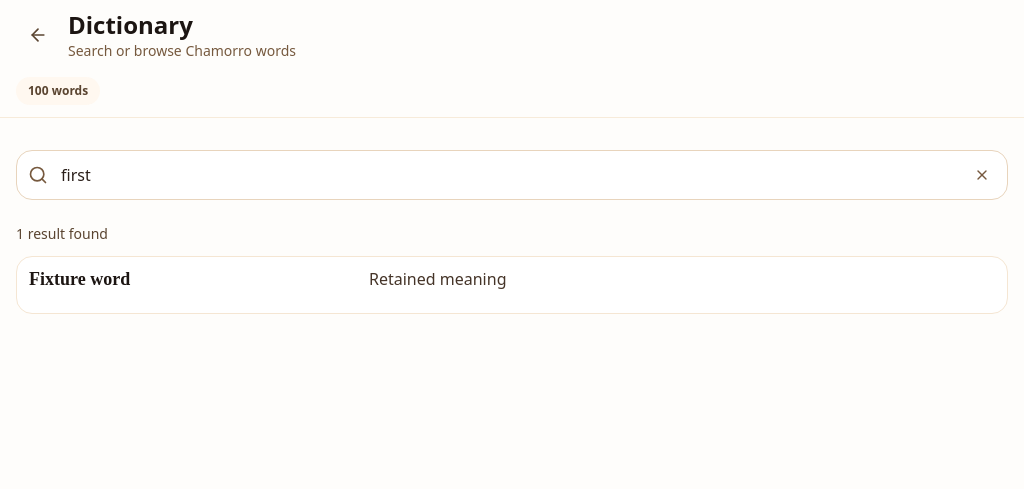
Test: distinguishes pending, failed and successful empty searches (prior results: true)
The width and height of the screenshot is (1024, 489).
Check: the heading "1 result found" is shown, box [16,224,108,243]
Step 1. Replace the text in the field with "next" → (512, 175), box [16,150,1008,200]
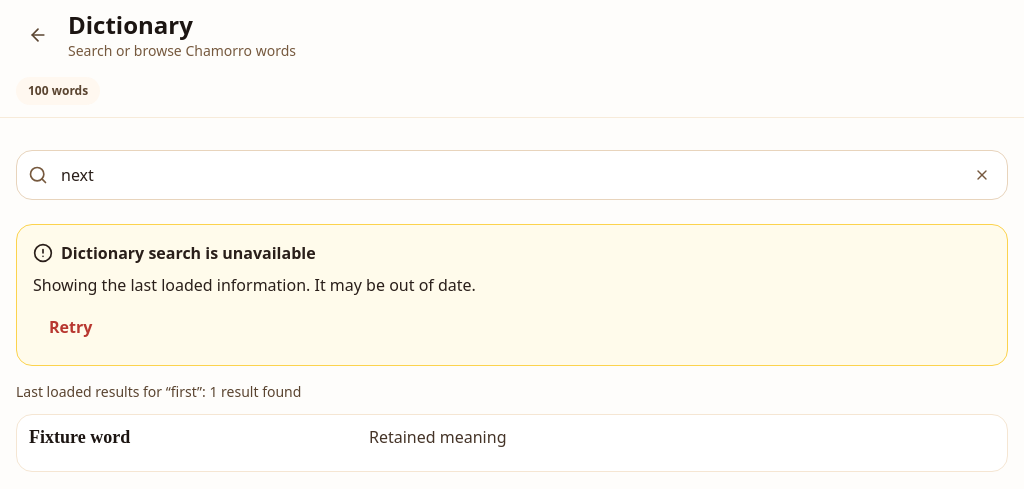
Check: the text "No words found" is not shown
Check: the message shows "Dictionary search is unavailable", box [61,242,316,264]
Step 2. Click the button "Retry" → click(71, 327), box [33,305,108,349]
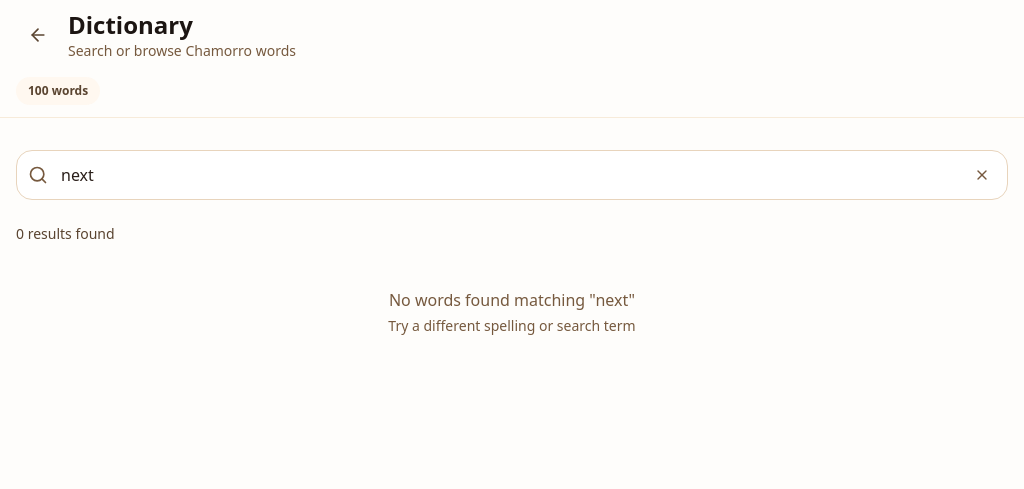
Check: the text "No words found matching \"next\"" is shown, box [389,289,635,311]
Check: the message "Dictionary search is unavailable Showing the last loaded information. It may be" is gone
